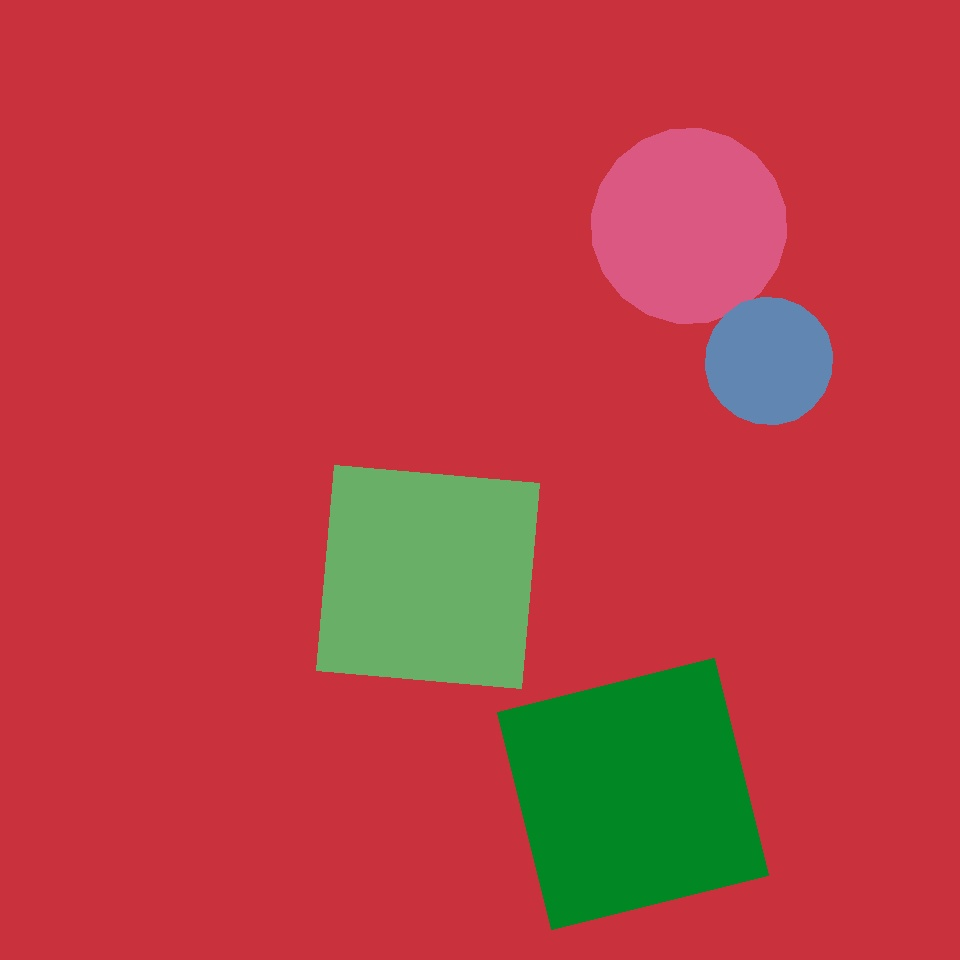circle: (809, 141, 903, 239)
square: (498, 658, 768, 929), (268, 500, 492, 725), (316, 466, 540, 689)
triangle: (592, 128, 786, 324), (706, 298, 832, 424)
